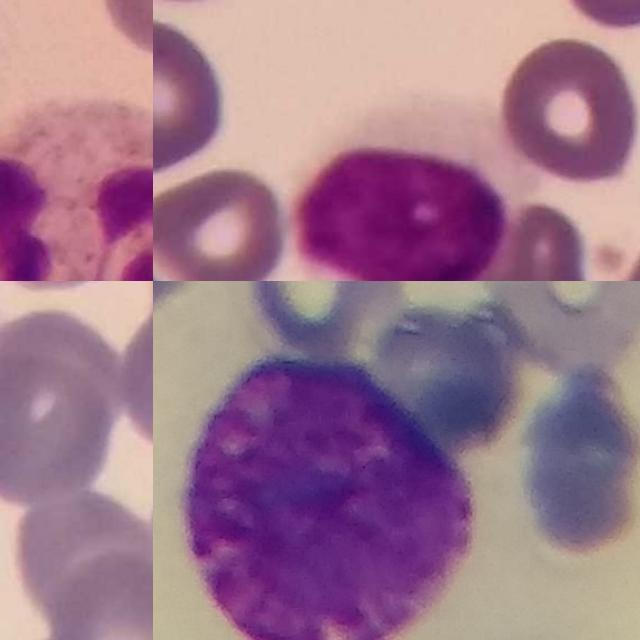Basophil: (184, 354, 479, 640)
Lymphocyte: (292, 93, 528, 281)
Neutrophil: (0, 96, 153, 281)
